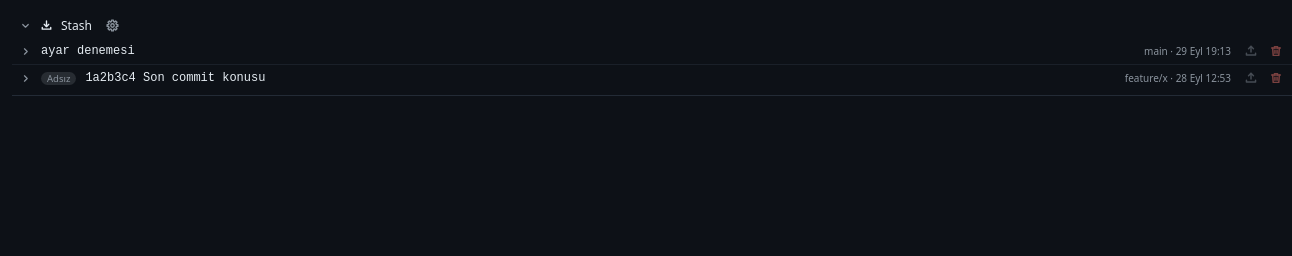
Test: dosya farkı › tıklayınca doğru argümanlarla isteniyor ve satırlar çiziliyor
Click the button with class "git-row" that starts with "ayar denemesi" at (88, 51), box x1=12 y1=38 x2=1239 y2=64
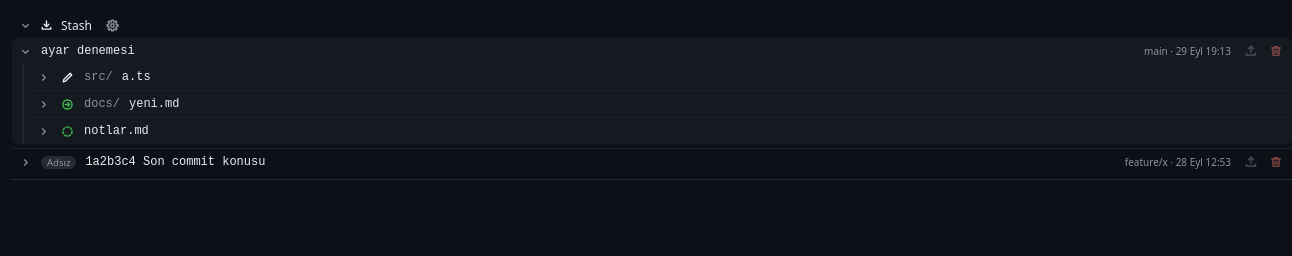
Click the button with class "git-row" showing "src/ a.ts" at (94, 77), box x1=30 y1=64 x2=159 y2=90
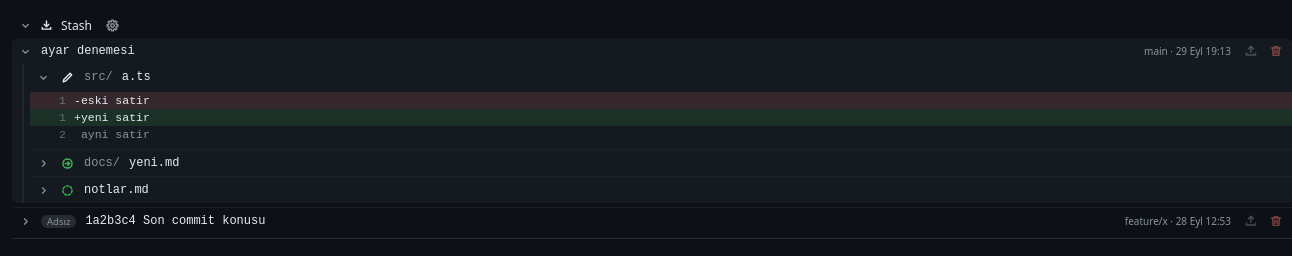
Result: the number of elements with class "del" is 1 at x1=30 y1=92 x2=1291 y2=109
Result: the number of elements with class "add" is 1 at x1=30 y1=109 x2=1291 y2=126
Result: the text with class "diff-text" reads "-eski satir" at x1=74 y1=94 x2=150 y2=107
